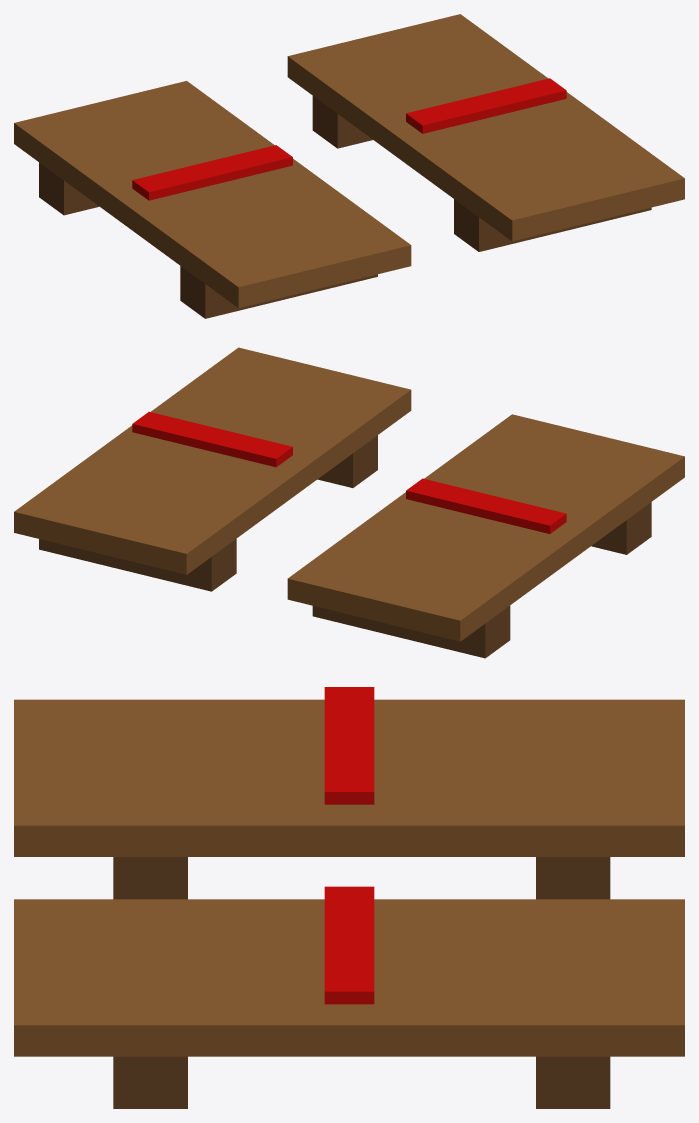
File: shoes_ancient_4.glb
3 views of the same model, one above another, from view 1: azimuth 30°, elevation 25°; view 2: azimuth 150°, elevation 25°; view 3: azimuth 270°, elevation 25° (orthographic). The views are drawn at different scales.
Size of the model in its own units: 0.3472 by 0.053 by 0.3024.
